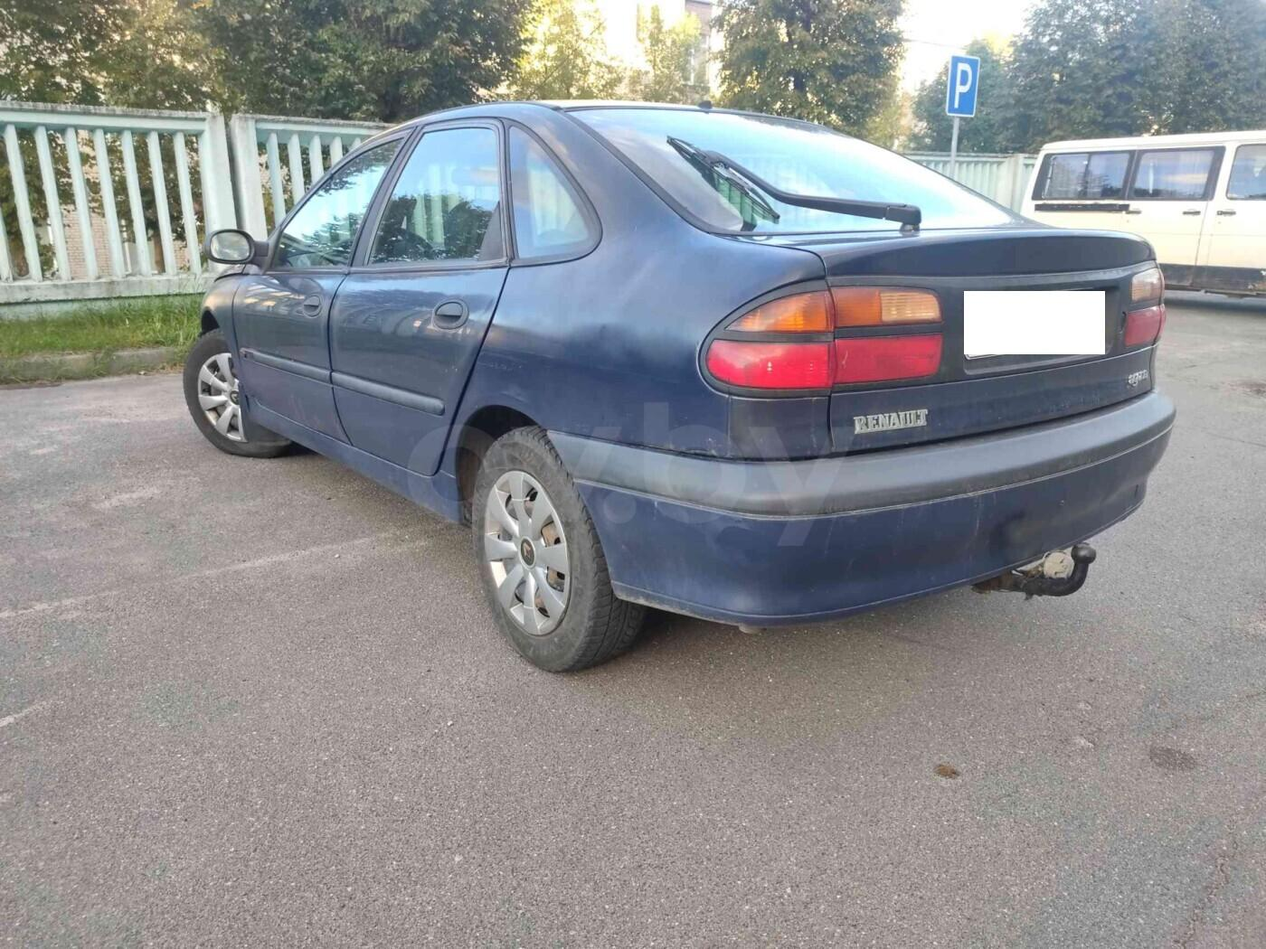Laguna_1998-2001: (185, 87, 1181, 687)
